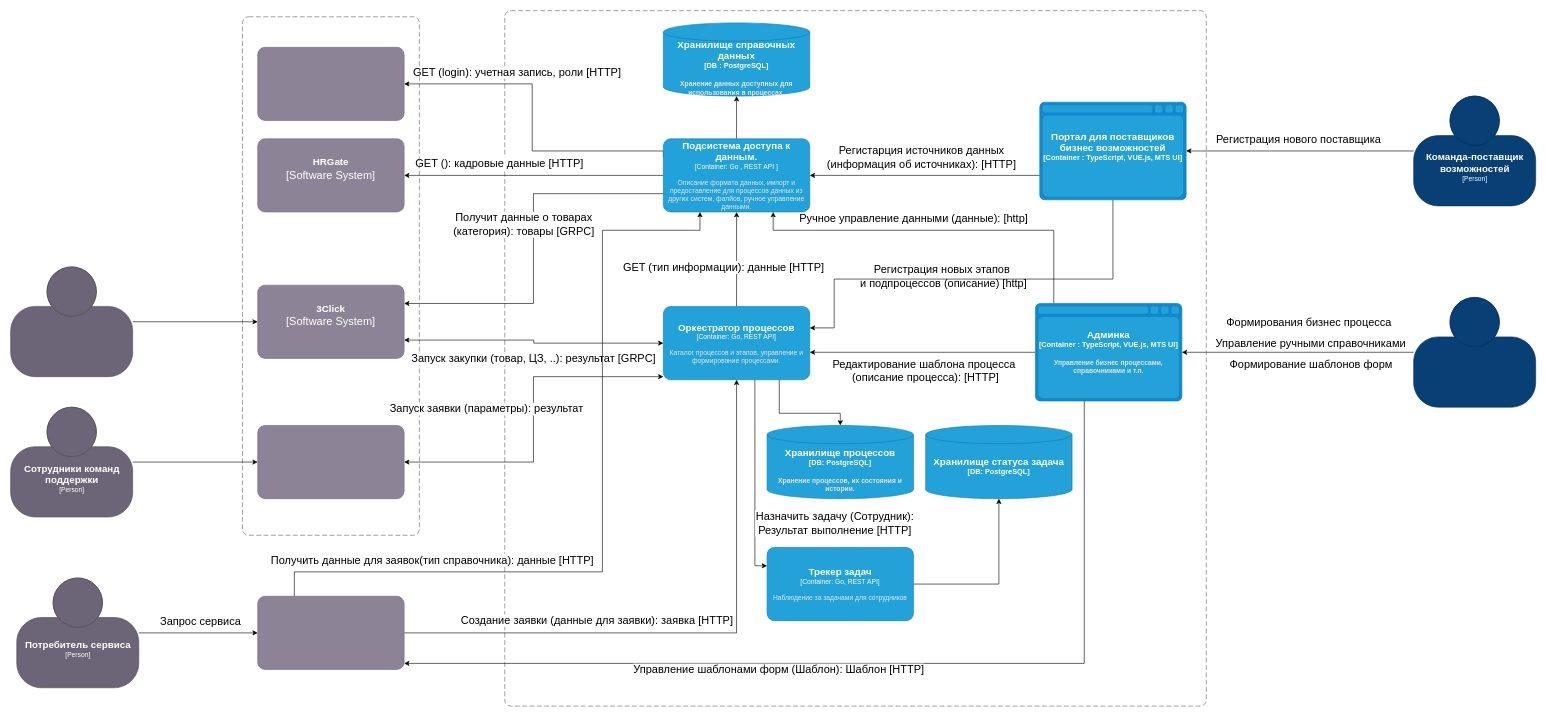
This 1546x717 diagram has some shape labels left out. The shapes that lost their labels are listed below. From the top down, each one's box as (x1, y1, x2, y2) in pixels, then its label:
(257, 47, 404, 120): IGA [Software System]
(242, 16, 419, 535): Поставщики возможностей [Software System Class]
(10, 266, 133, 377): Пользователи системы 3Click [Person]
(504, 10, 1206, 706): Платформа автоматизации [Software System]
(1413, 297, 1536, 407): Дизайнер процессов [Person]
(257, 425, 404, 499): ITSM [Software System]
(257, 596, 404, 669): ServiceDesk [Software System]
